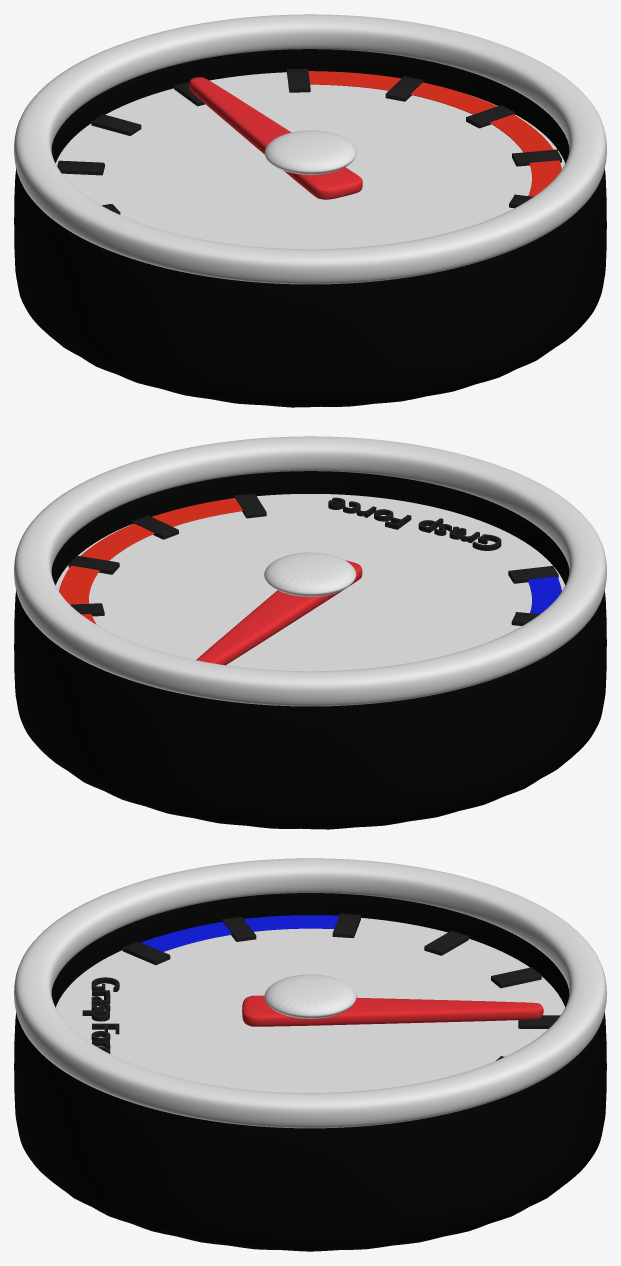
The model's file is PressureGauge.fbx.
3 views of the same model, one above another, from view 1: azimuth 30°, elevation 25°; view 2: azimuth 150°, elevation 25°; view 3: azimuth 270°, elevation 25° (orthographic).
Visible parts, largest first — view 1: Circle, DialFace, RimCircle, HighForceBand, Needle, NeedlePin, Indicator.001, Indicator.002, Indicator.008, Indicator.009, Indicator.007, Indicator.006; view 2: Circle, DialFace, RimCircle, Needle, HighForceBand, NeedlePin, Grasp Force, LowForceBand, Indicator.005, Indicator.008, Indicator.009, Indicator.010; view 3: Circle, DialFace, RimCircle, Needle, NeedlePin, LowForceBand, Grasp Force, Indicator.001, Indicator.002, Indicator.005, Indicator.003, Indicator.004.
Boxes of the visible parts, bbox=[...] form: Circle: bbox=[14, 49, 606, 407]; DialFace: bbox=[55, 72, 565, 249]; RimCircle: bbox=[14, 14, 606, 284]; HighForceBand: bbox=[308, 71, 561, 196]; Needle: bbox=[189, 77, 362, 199]; NeedlePin: bbox=[264, 130, 356, 174]; Indicator.001: bbox=[91, 114, 141, 135]; Indicator.002: bbox=[57, 160, 104, 175]; Indicator.008: bbox=[466, 105, 514, 128]; Indicator.009: bbox=[512, 149, 561, 166]; Indicator.007: bbox=[385, 76, 423, 101]; Indicator.006: bbox=[287, 68, 310, 92]; Circle: bbox=[14, 471, 606, 829]; DialFace: bbox=[55, 494, 565, 671]; RimCircle: bbox=[14, 436, 606, 706]; Needle: bbox=[196, 560, 362, 665]; HighForceBand: bbox=[59, 498, 242, 624]; NeedlePin: bbox=[264, 552, 356, 596]; Grasp Force: bbox=[328, 497, 501, 550]; LowForceBand: bbox=[524, 576, 561, 624]; Indicator.005: bbox=[508, 565, 558, 583]; Indicator.008: bbox=[68, 555, 119, 574]; Indicator.009: bbox=[132, 515, 178, 539]; Indicator.010: bbox=[234, 493, 266, 518]; Circle: bbox=[14, 893, 606, 1251]; DialFace: bbox=[56, 918, 564, 1092]; RimCircle: bbox=[14, 858, 606, 1128]; Needle: bbox=[242, 995, 543, 1026]; NeedlePin: bbox=[264, 974, 356, 1018]; LowForceBand: bbox=[141, 915, 338, 951]; Grasp Force: bbox=[82, 977, 119, 1053]; Indicator.001: bbox=[491, 967, 541, 988]; Indicator.002: bbox=[424, 930, 468, 955]; Indicator.005: bbox=[122, 941, 170, 965]; Indicator.003: bbox=[332, 913, 360, 937]; Indicator.004: bbox=[222, 917, 256, 941].
Size of the model in its own units: 199 by 58.44 by 199.
